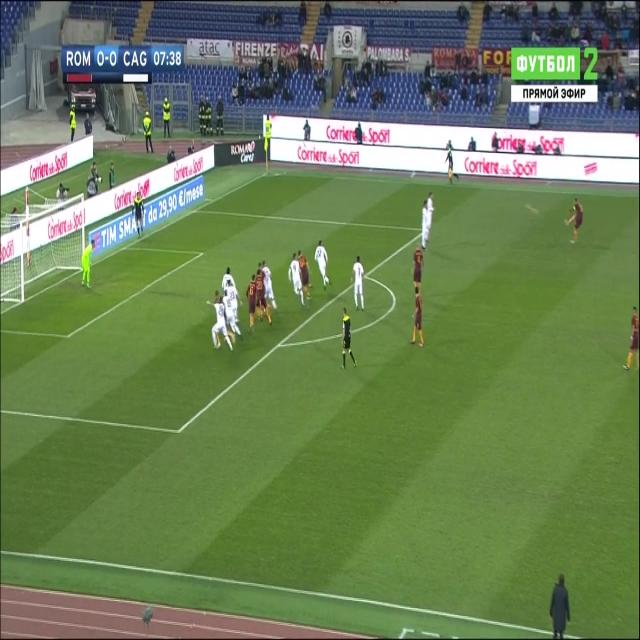Goalkeeper: (78, 238, 97, 295)
Player: (206, 298, 231, 354), (410, 285, 430, 352), (562, 193, 586, 247), (222, 288, 244, 344), (312, 236, 334, 292), (625, 304, 640, 383), (349, 254, 368, 314), (262, 256, 280, 314), (287, 252, 305, 309), (257, 266, 273, 327), (412, 242, 426, 302), (295, 247, 312, 294), (245, 274, 258, 333), (223, 275, 239, 322), (419, 200, 428, 247), (427, 189, 435, 239)
Referee: (340, 304, 358, 376), (442, 149, 461, 189), (132, 189, 146, 242)
